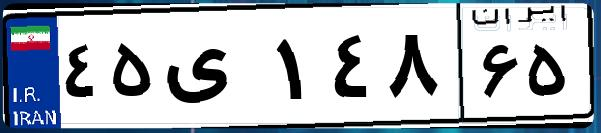1: (270, 28, 330, 110)
4: (330, 28, 385, 110), (57, 26, 110, 100)
5: (525, 38, 570, 115), (110, 28, 158, 98)
6: (475, 38, 525, 113)
8: (385, 28, 445, 110)
ی: (158, 20, 270, 120)
